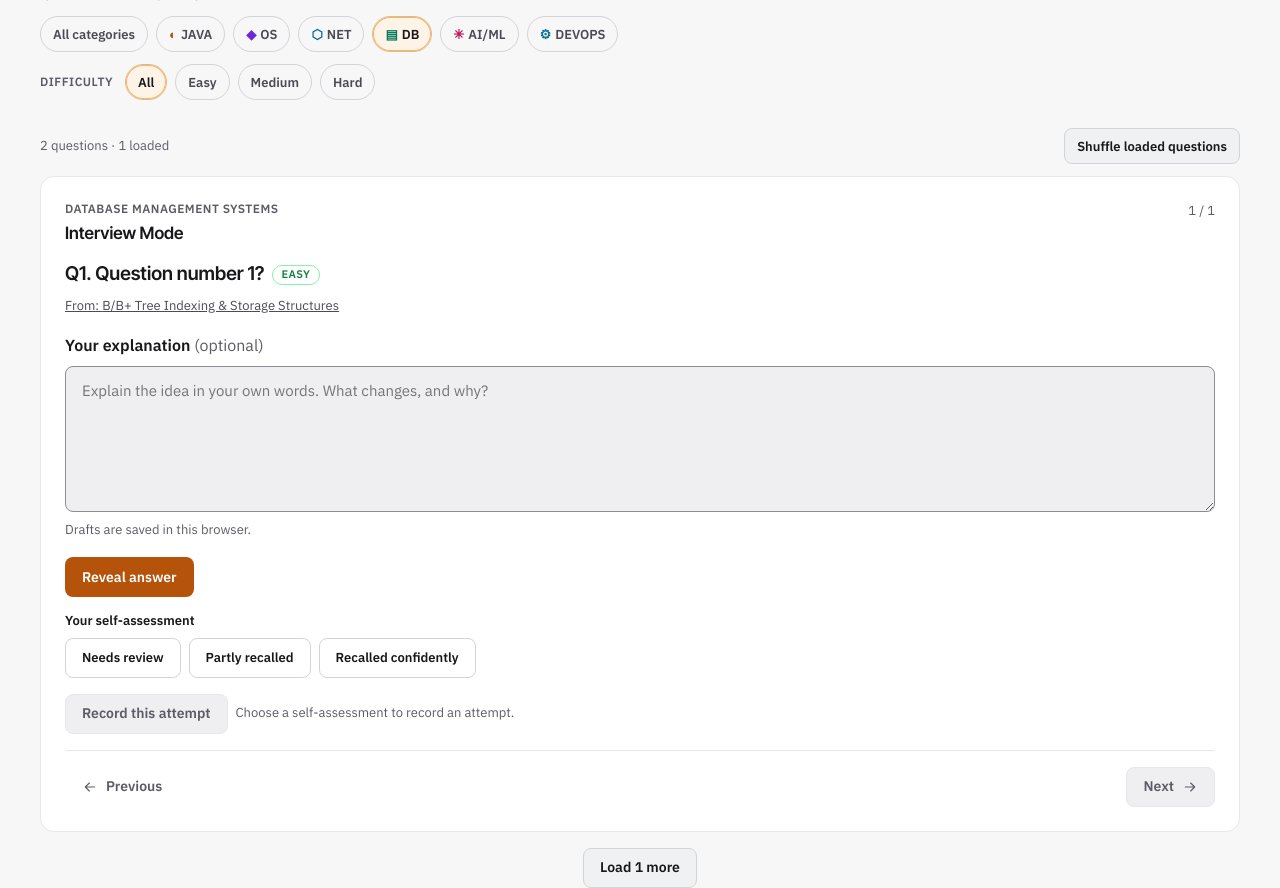
Scenario: InterviewPage › loads more questions and appends them without losing the current position
The image size is (1280, 888).
(page scrolled)
Check: the text "1 / 1" is shown, box [1188,201,1215,222]
Click the button "Load 1 more". click: (640, 868)
box: [583,848,697,887]
(page scrolled)
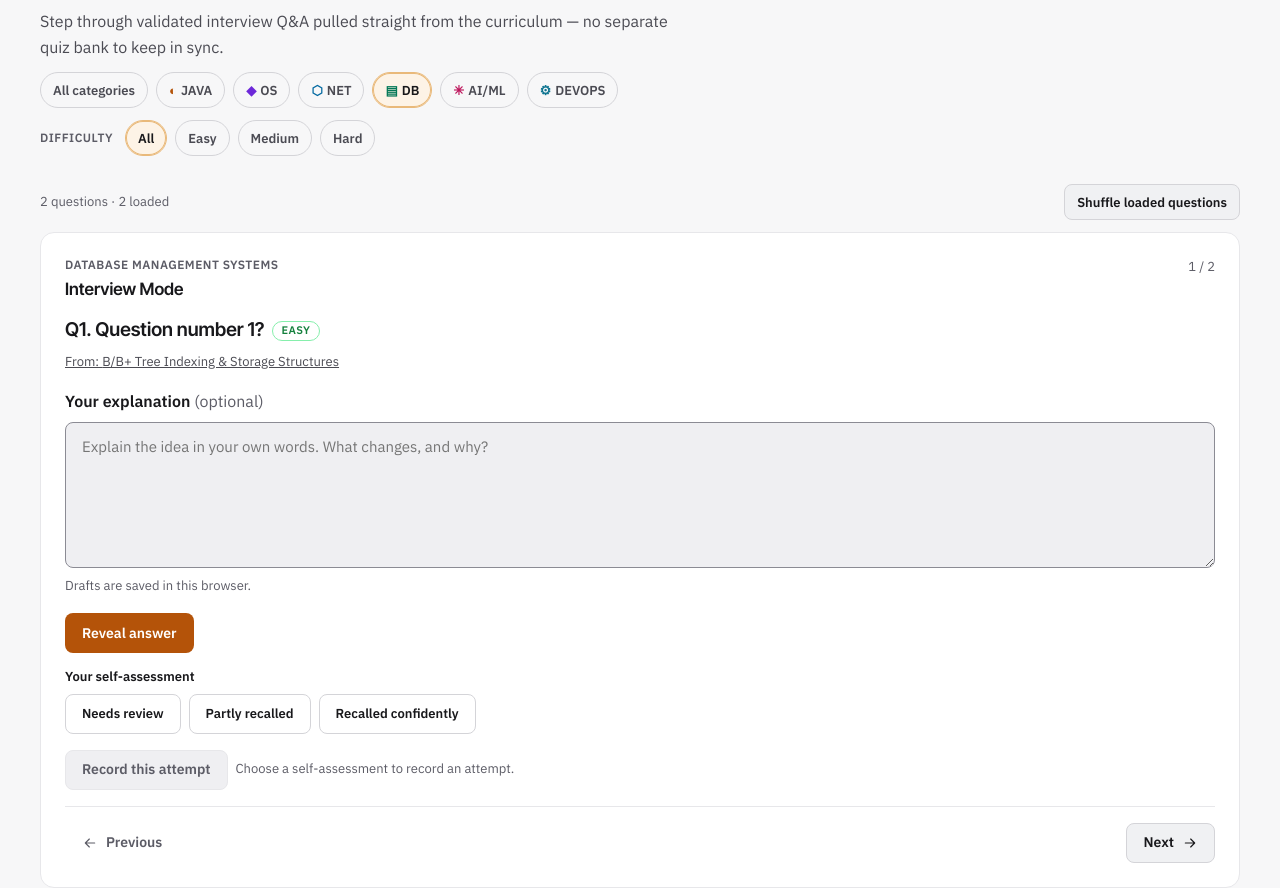
Check: the text "1 / 2" is shown, box [1188,257,1215,278]
